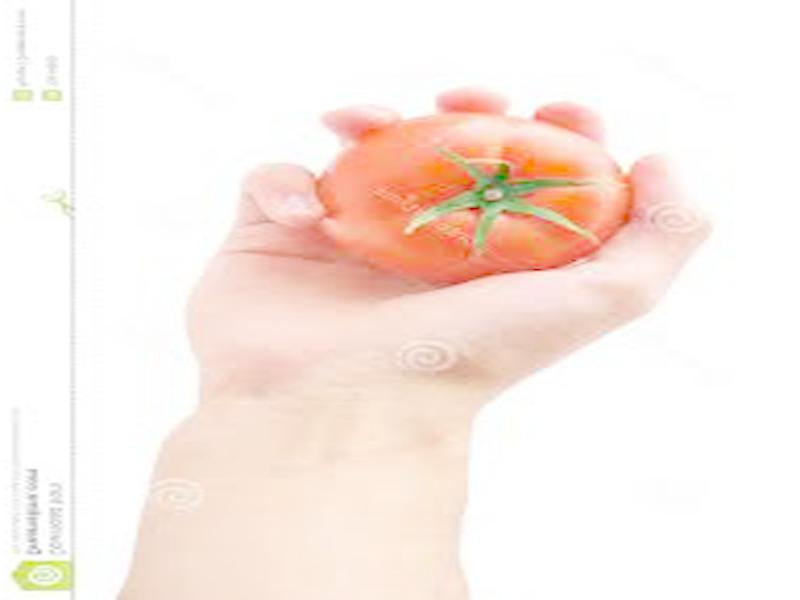Tomato: (314, 113, 625, 278)
